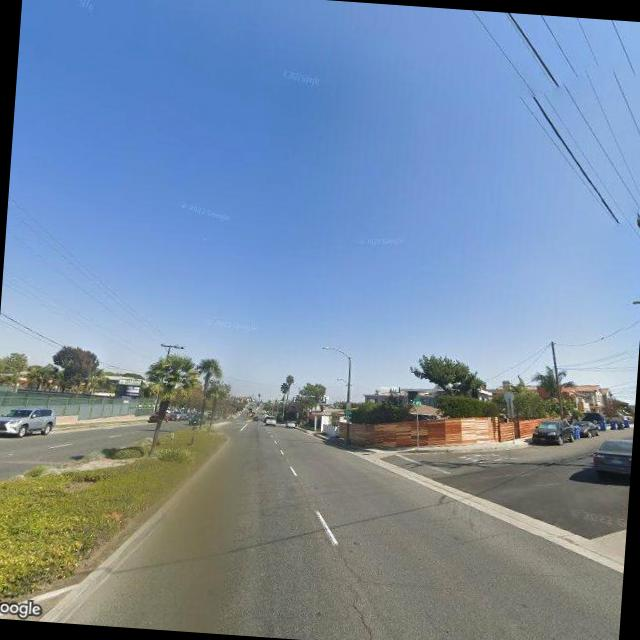pothole: (343, 595, 380, 640)
